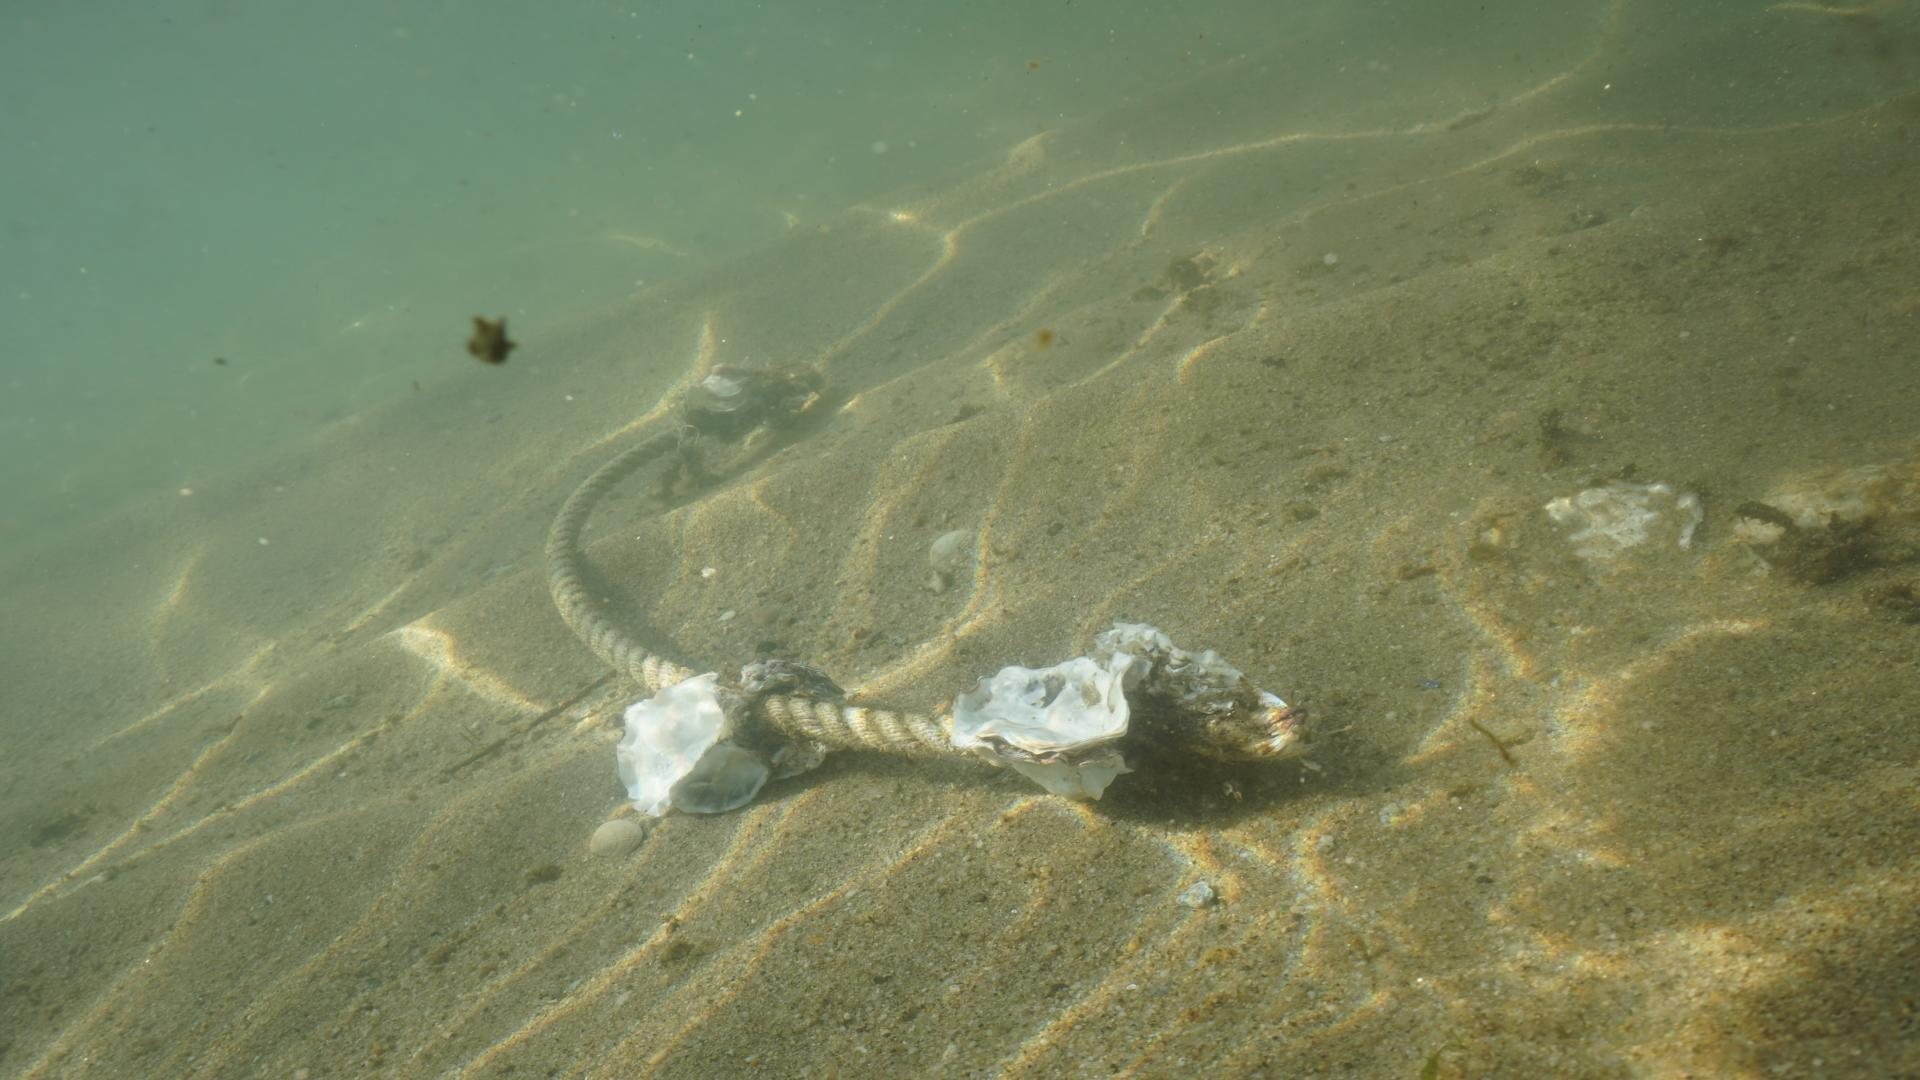rope: (538, 394, 1087, 771)
